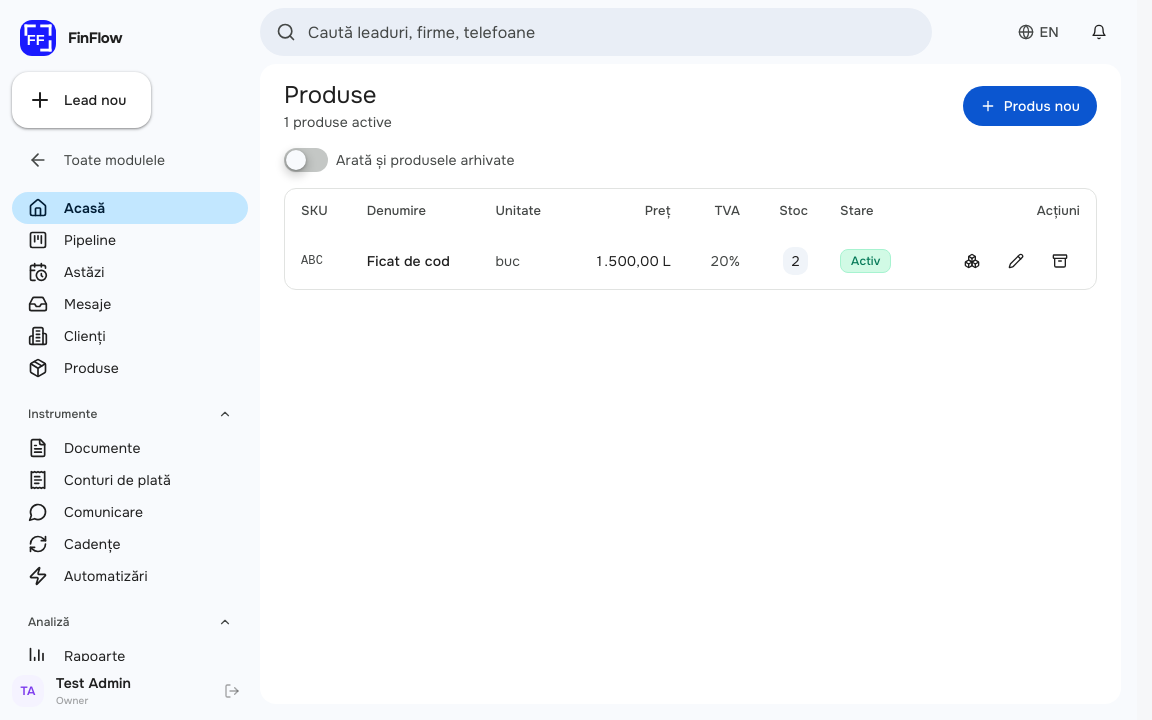
Test case: CRM (Faza 1) — CrmProductsPage › nu lasă să scoți mai mult decât e pe stoc
The image size is (1152, 720).
Step 1. Click the button named "Stoc Ficat de cod: 2 buc" → (795, 261), box [783,247,808,275]
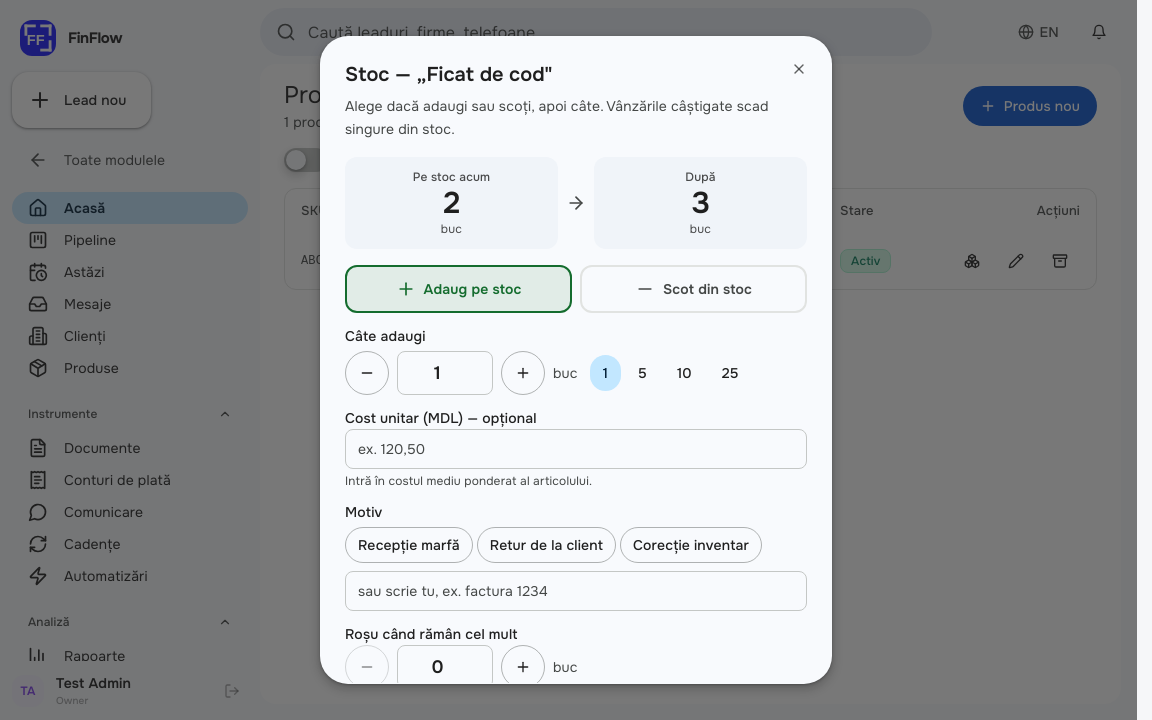
Step 2. Click the button "Scot din stoc" → (694, 288), box [580,264,807,312]
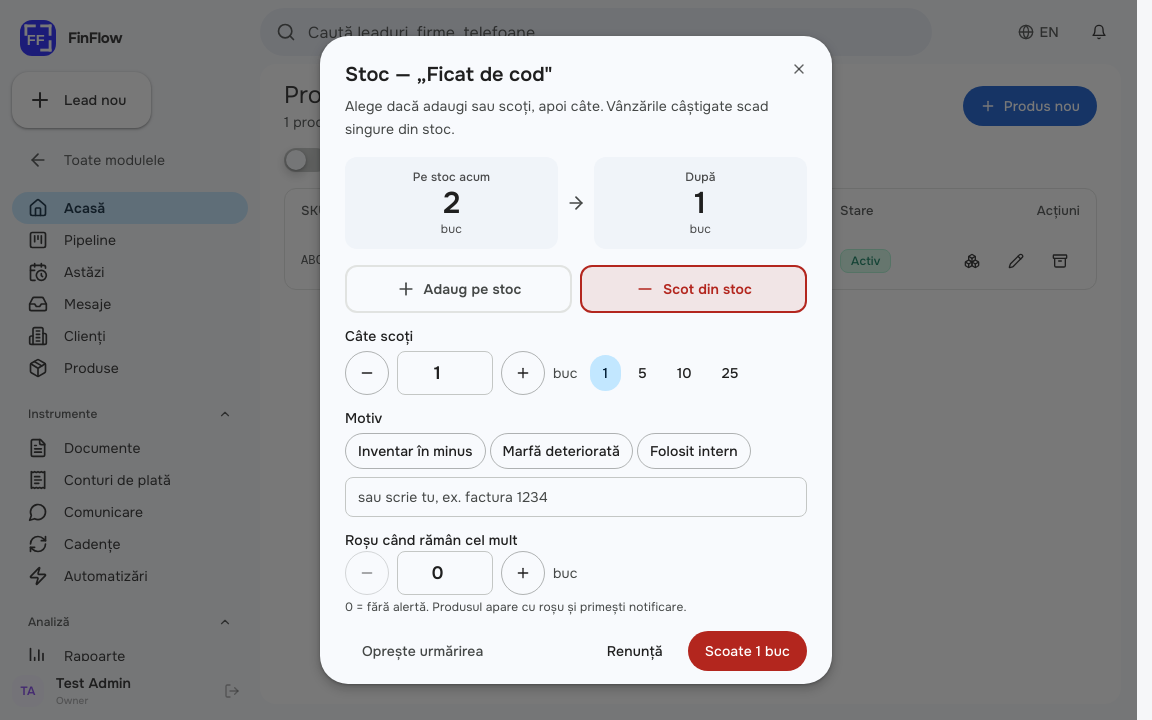
Step 3. Click the button named "5 buc" → (642, 372), box [625,354,660,390]
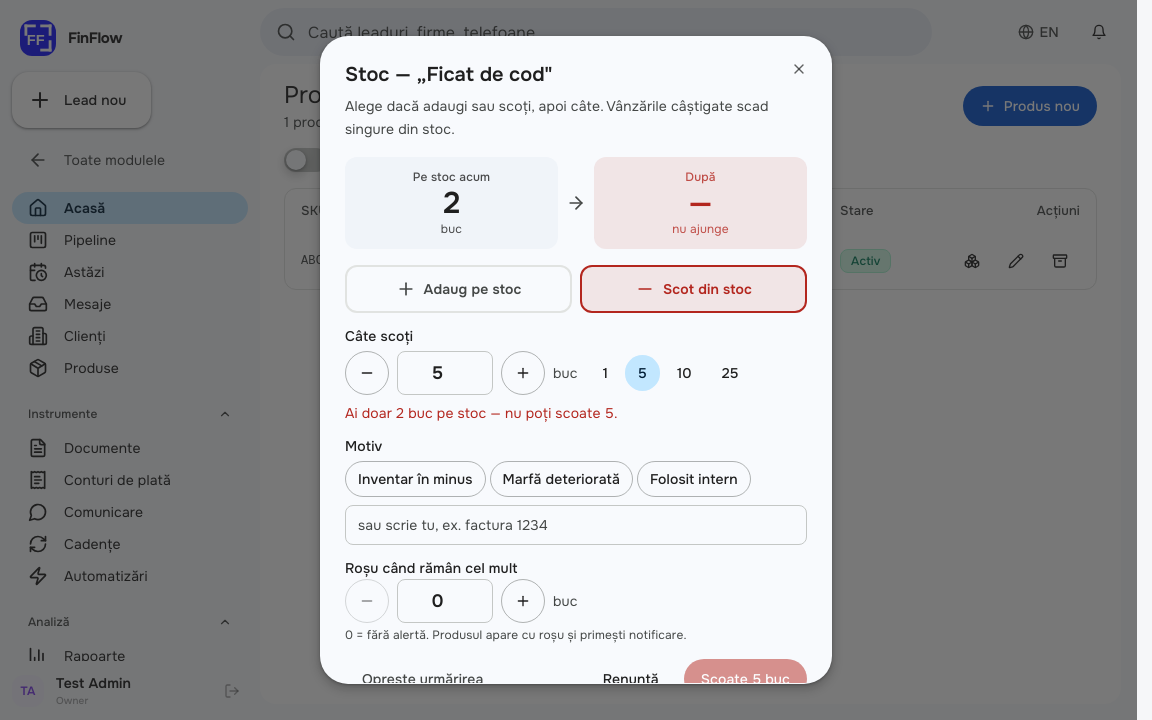
Check: the text "Ai doar 2 buc pe stoc — nu poți scoate 5." is shown, box [345,404,618,422]
Check: the button "Scoate 5 buc" is disabled, box [684,658,807,684]
